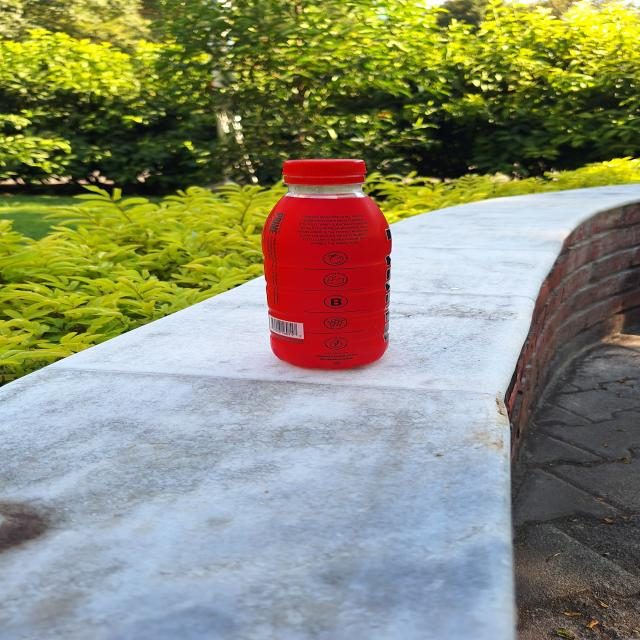Prime - Shitass: (268, 154, 387, 368)
